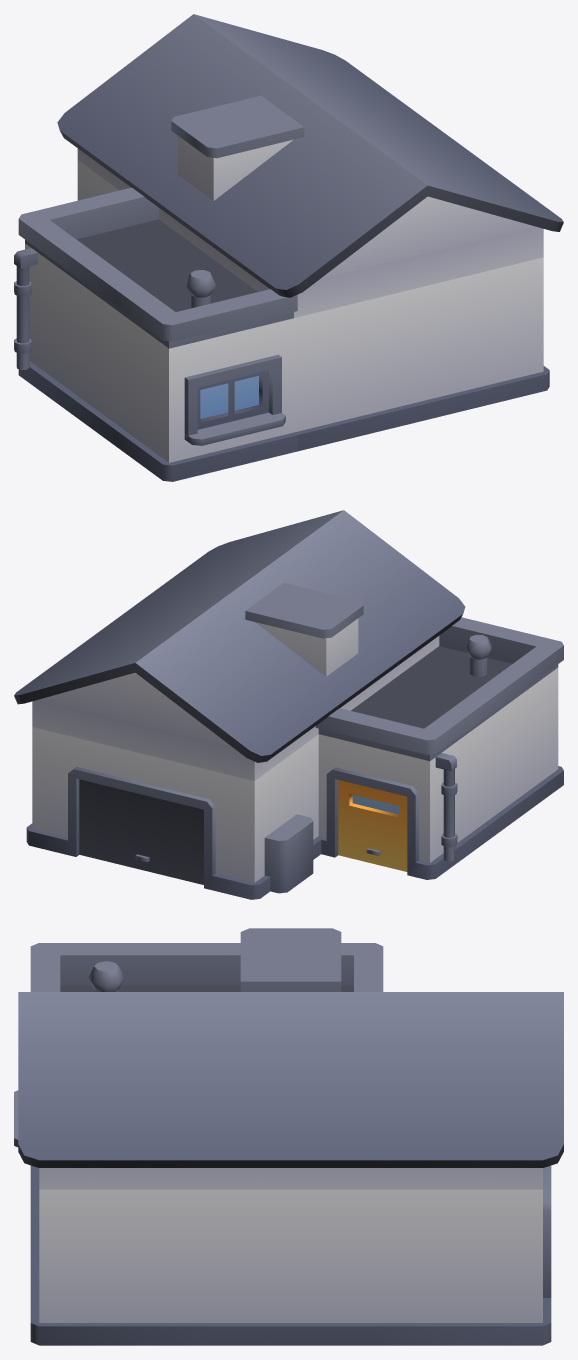
Rendered from building-h.fbx.
3 views of the same model, one above another, from view 1: azimuth 30°, elevation 25°; view 2: azimuth 150°, elevation 25°; view 3: azimuth 270°, elevation 25° (orthographic). The views are drawn at different scales.
Parts seen in each view (by area): view 1: building-h; view 2: building-h; view 3: building-h.
Boxes of the visible parts, x1,y1,x2,y2 form: building-h: (14, 14, 563, 481); building-h: (14, 510, 563, 899); building-h: (14, 928, 563, 1345).
Size of the model in its own units: 132 by 73.35 by 131.
Materials: 1 (1 with a texture image).
